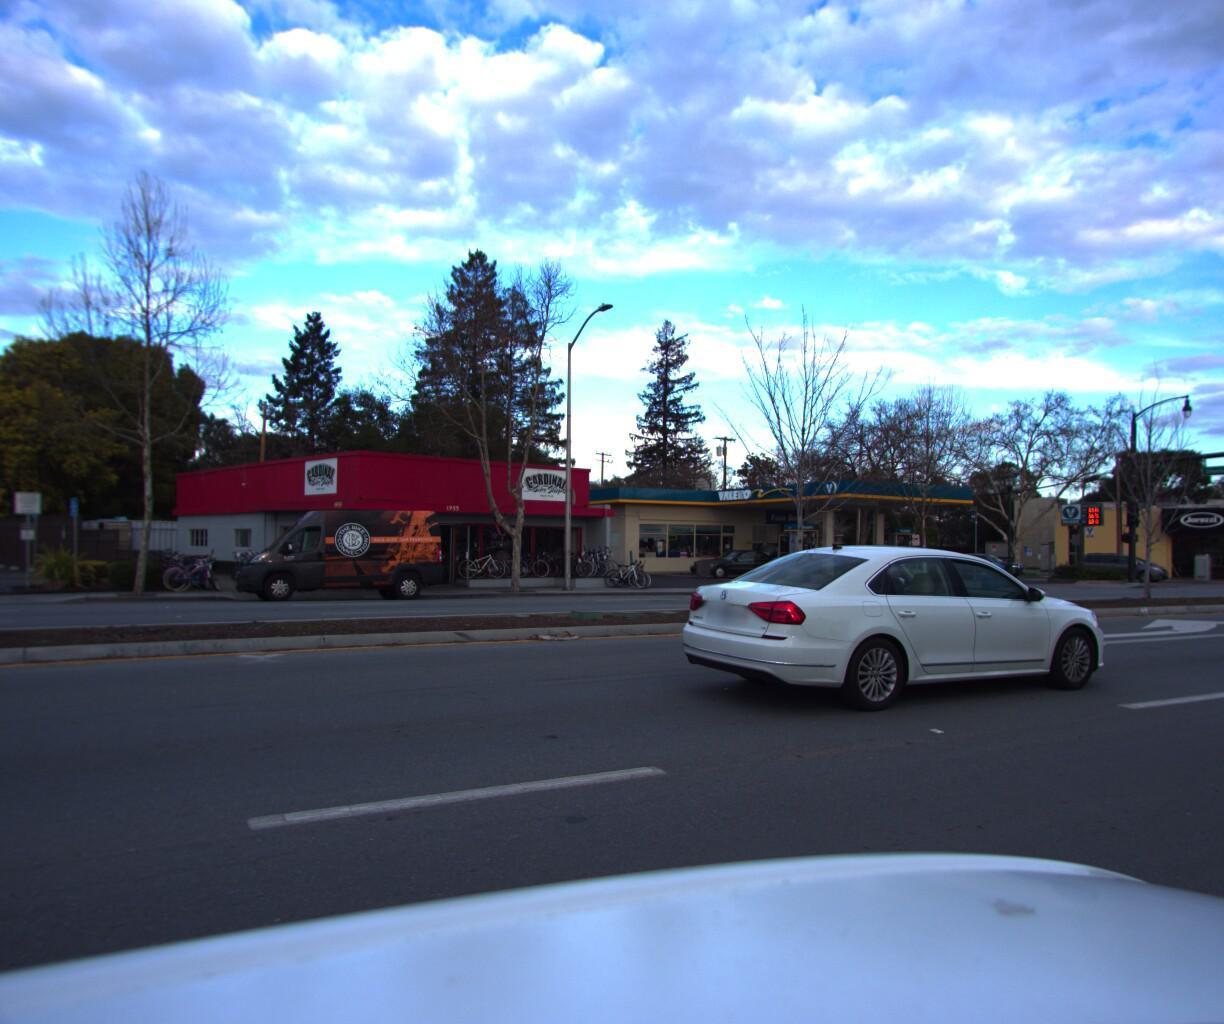bicycle: (112, 544, 190, 588), (160, 547, 232, 590), (155, 547, 227, 589), (614, 551, 656, 585), (607, 551, 647, 586), (547, 551, 585, 586), (582, 550, 620, 584), (555, 551, 593, 585), (563, 551, 601, 585), (588, 550, 626, 583), (573, 551, 611, 584)
car: (658, 539, 1120, 726), (682, 542, 788, 577), (1069, 544, 1167, 578), (940, 545, 1027, 575)
truck: (229, 500, 446, 601)
